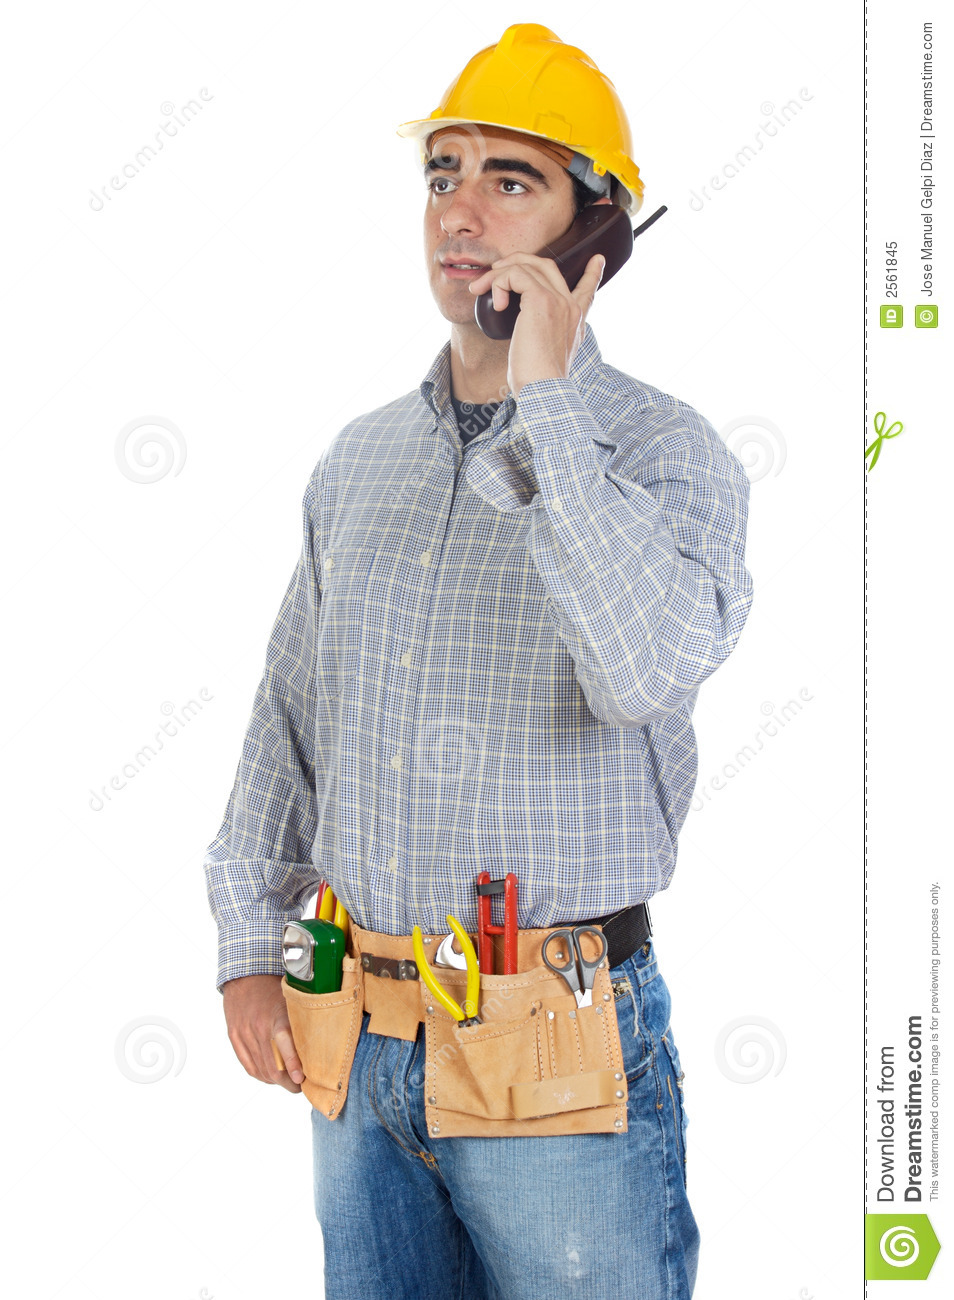phone: (485, 217, 603, 337)
talk: (425, 146, 611, 387)
